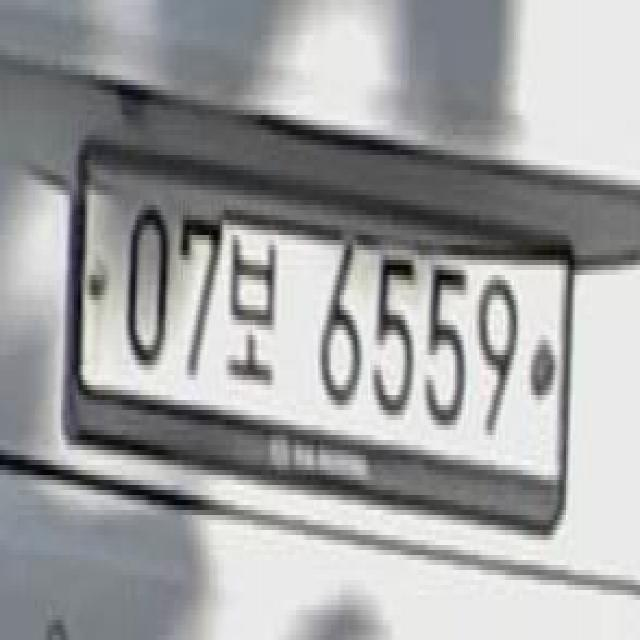illegal_plate: (72, 155, 580, 560)
